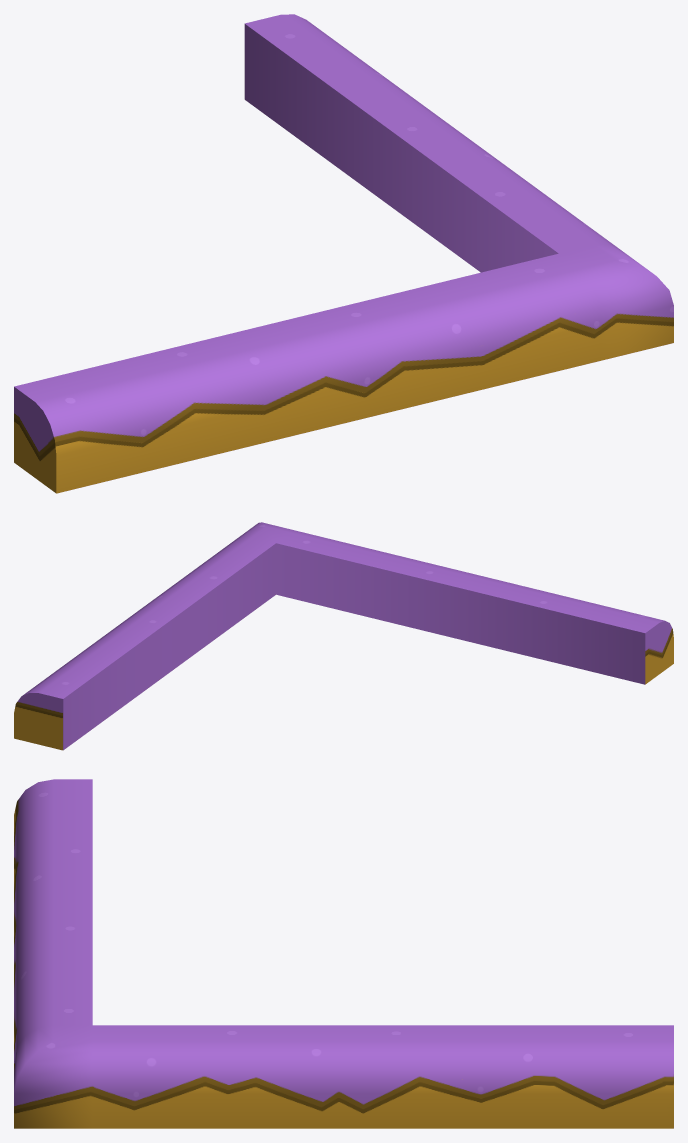
The model's file is edge corner.fbx.
3 renders of one model, top to bottom at view 1: azimuth 30°, elevation 25°; view 2: azimuth 150°, elevation 25°; view 3: azimuth 270°, elevation 25°, orthographic. The views are drawn at different scales.
Parts seen in each view (by area): view 1: near_corner; view 2: near_corner; view 3: near_corner.
Part boxes in pixels (<box>): near_corner: <box>14,14,673,493</box>; near_corner: <box>14,522,673,750</box>; near_corner: <box>14,779,673,1128</box>.
Size of the model in its own units: 425 by 50 by 425.
